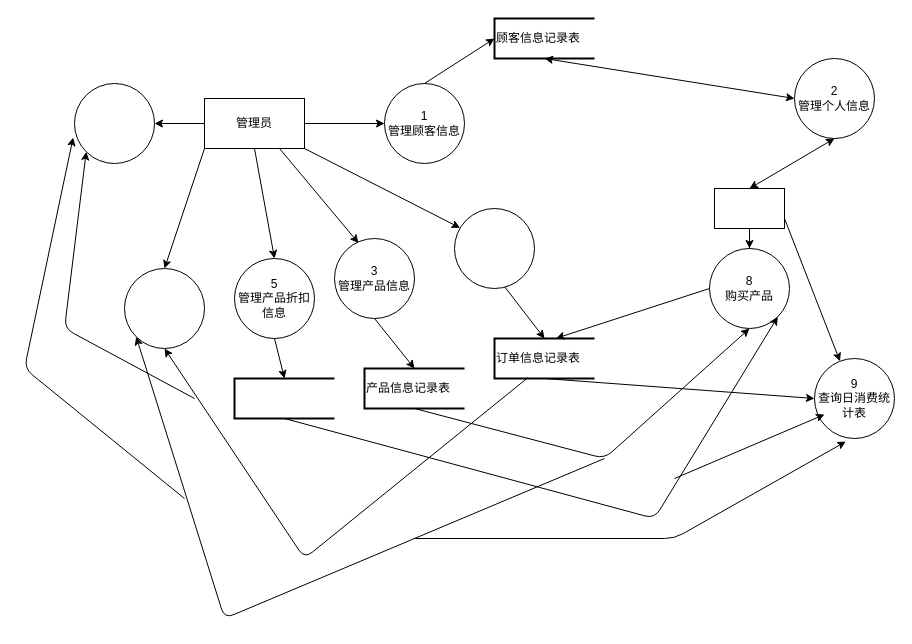
The diagram is 912 pixels wide and 644 high, and some of its shapes have lost their labels. The shapes that lost their labels are listed below. From the top down, each one's centre as x and y in pixels, then its label:
At (x=114, y=123): "7 生成产品销售量统计表".
At (x=749, y=208): "顾客".
At (x=494, y=248): "4 管理订单信息".
At (x=164, y=308): "6 生成日/月销售额统计表".
At (x=284, y=398): "产品折扣信息记录表".
